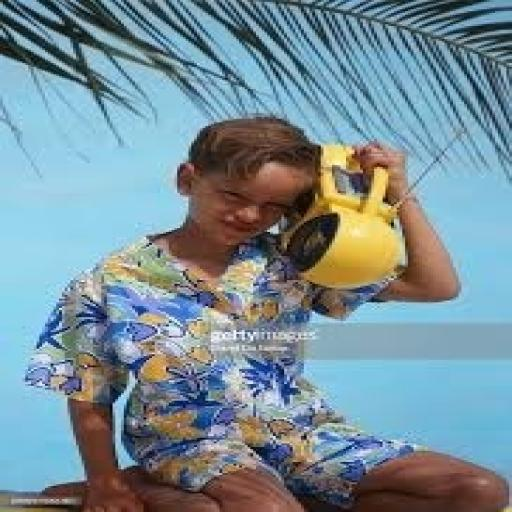listening_to_music: (23, 113, 509, 510)
